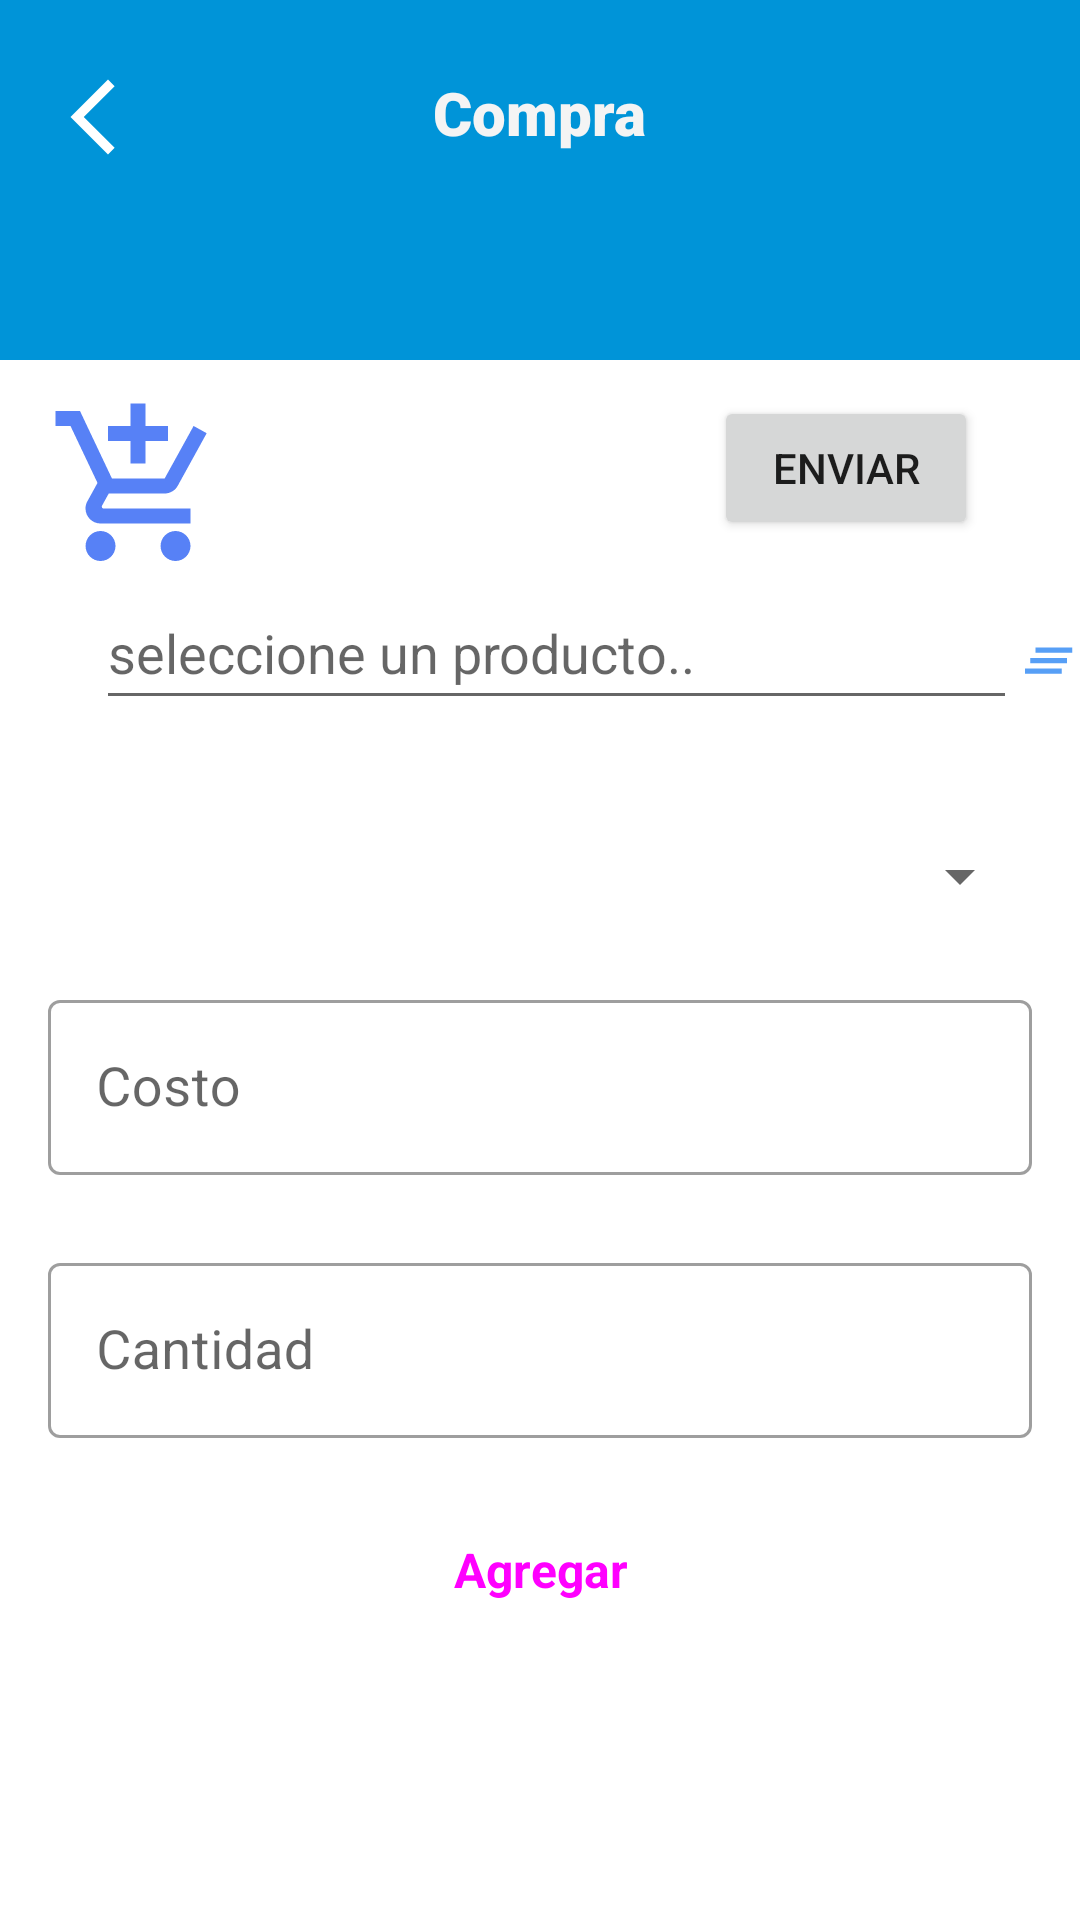

Named icons in this screenshot (1080w x 1920h) and their centers, (x=x, y=y):
add shopping cart: (x=131, y=482)
arrow back: (x=92, y=117)
clear all: (x=1049, y=660)
